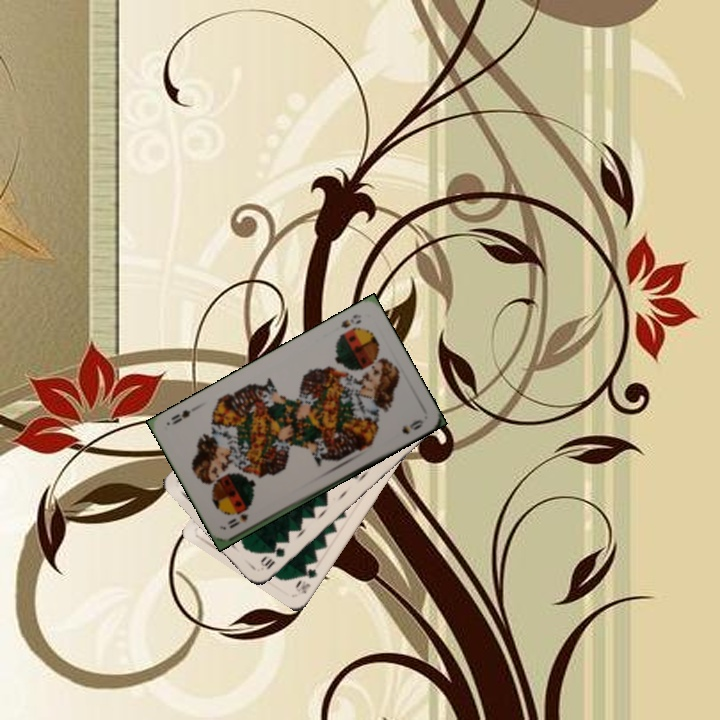G10: (256, 543, 287, 572), (292, 565, 320, 597)
SO: (337, 310, 364, 331), (225, 510, 251, 531)
